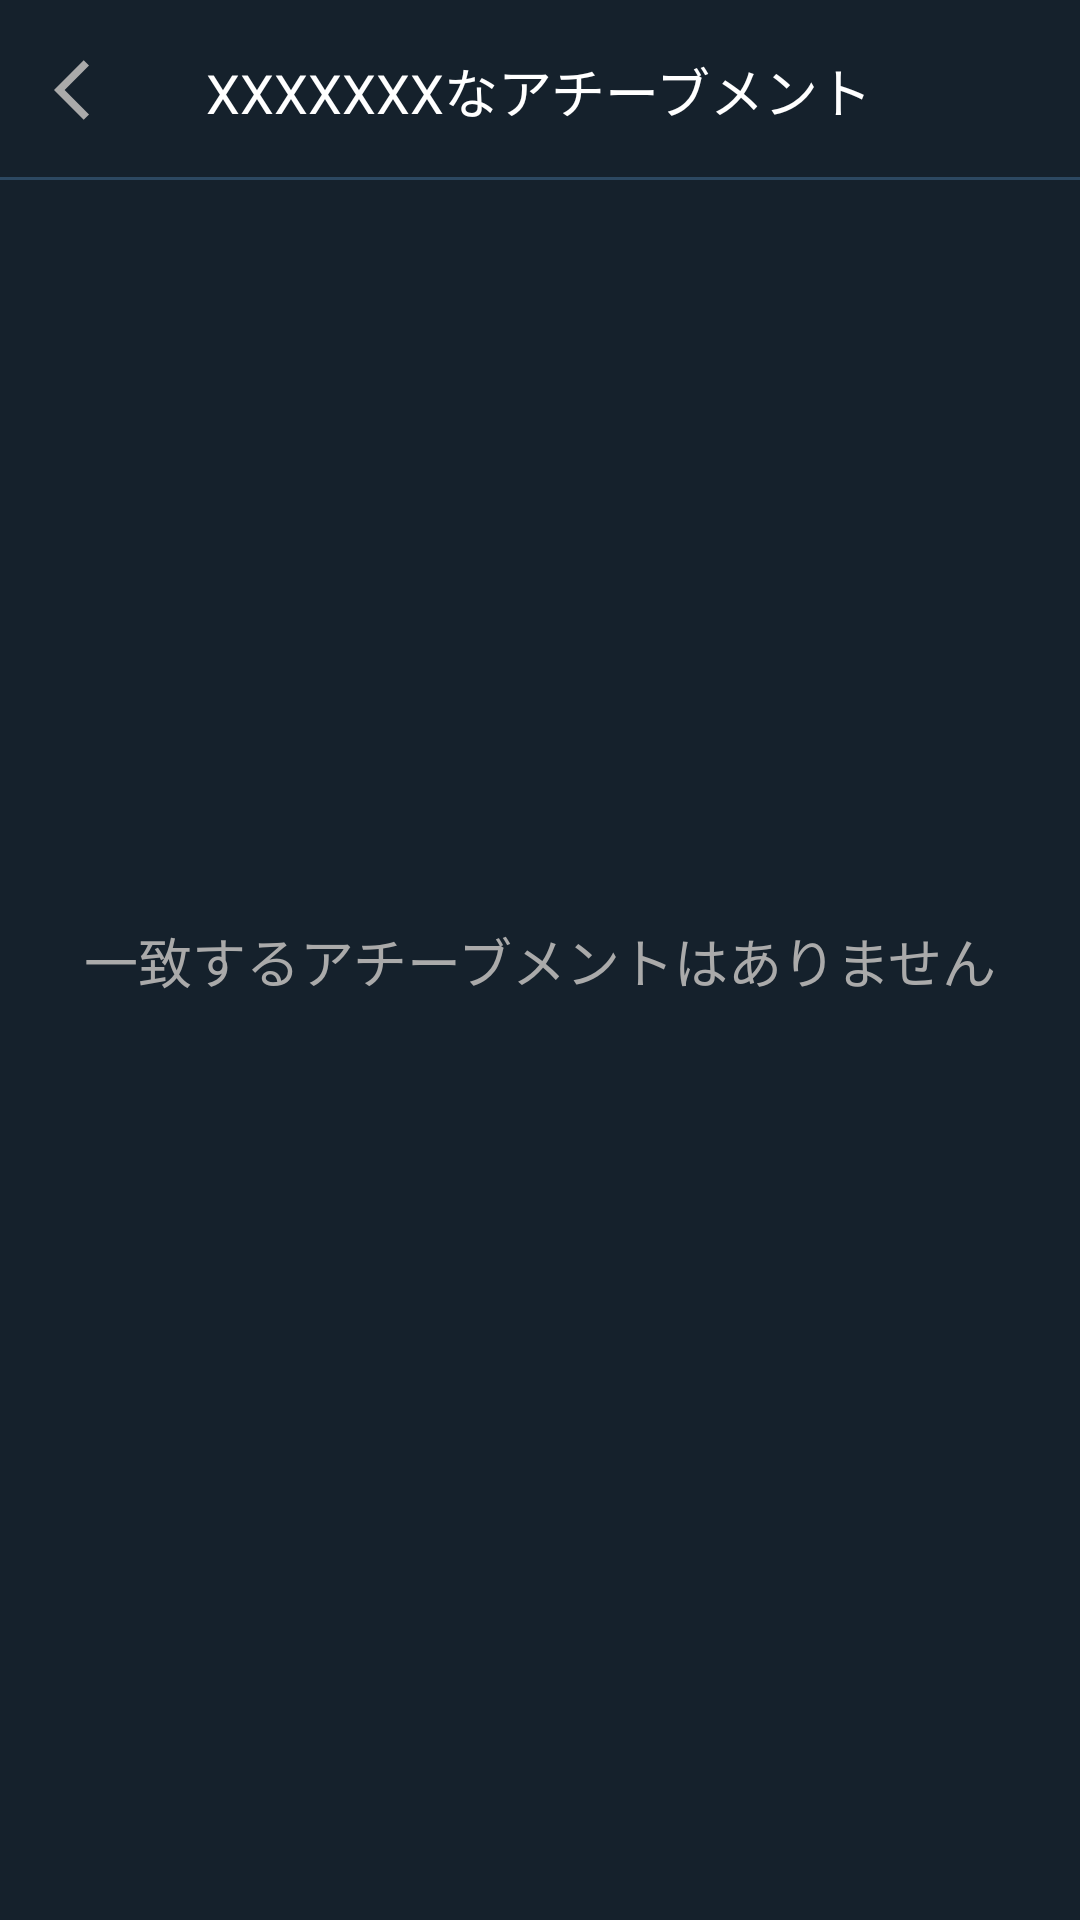

Icons on this 1080*1920 Android screen, each with the point to tap as (x,y):
arrow back: (71,90)
